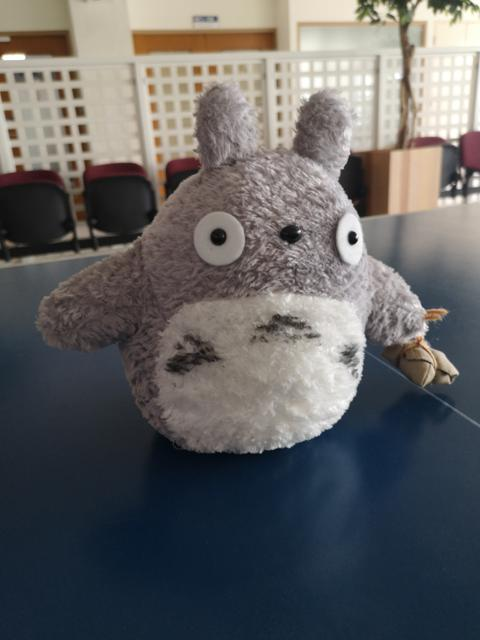totoro: (33, 79, 459, 463)
